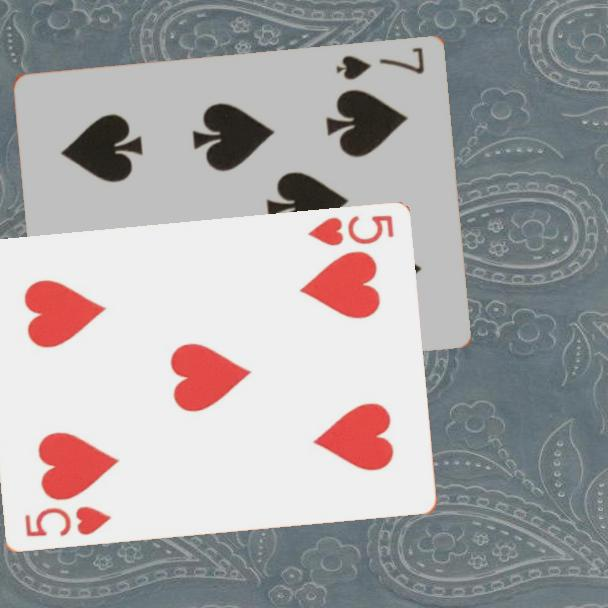h05: (20, 503, 114, 541), (304, 212, 397, 250)
s07: (333, 43, 428, 83)
